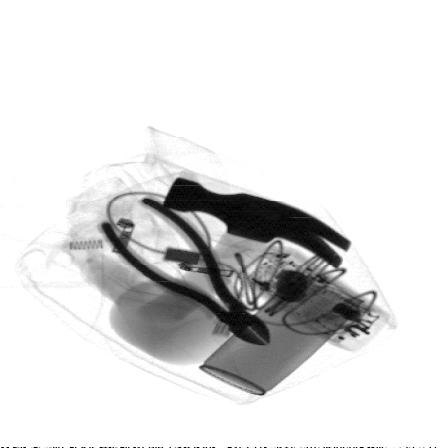Hammer: (142, 177, 354, 325)
Pliers: (98, 195, 271, 346)
